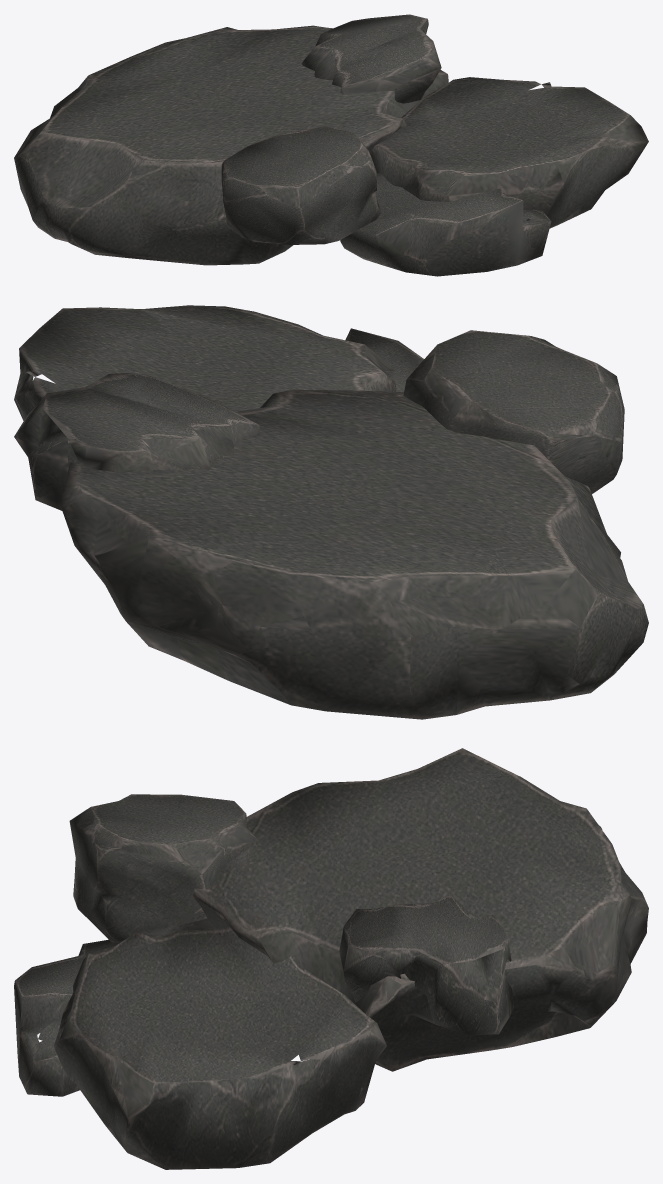
File: cliff_dark_slab.gltf
3 renders of one model, top to bottom at view 1: azimuth 30°, elevation 25°; view 2: azimuth 150°, elevation 25°; view 3: azimuth 270°, elevation 25°, orthographic. The views are drawn at different scales.
Visible parts, largest first — view 1: cliff_dark_slab; view 2: cliff_dark_slab; view 3: cliff_dark_slab.
Part boxes in pixels (x1=…): cliff_dark_slab: x1=14, y1=14, x2=648, y2=276; cliff_dark_slab: x1=14, y1=305, x2=648, y2=719; cliff_dark_slab: x1=14, y1=748, x2=648, y2=1169.
Size of the model in its own units: 2 by 0.45 by 1.6.
1 material, 1 textured.
